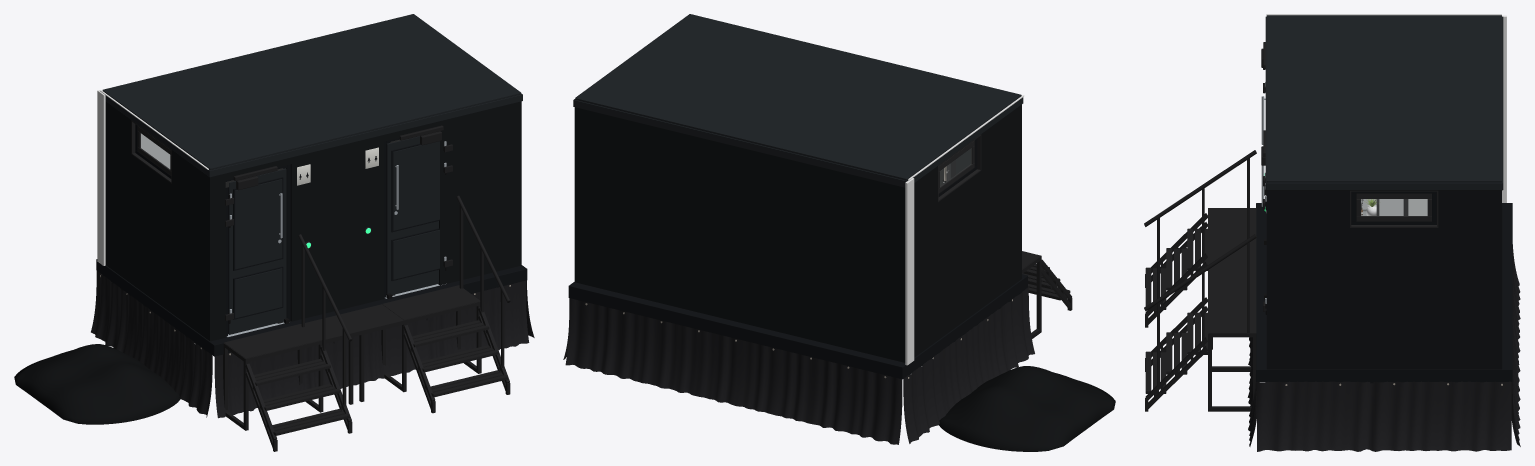
The model's file is SHOWER2_A-feba4975d2b0.glb.
3 views of the same model, side by side, from view 1: azimuth 30°, elevation 25°; view 2: azimuth 150°, elevation 25°; view 3: azimuth 270°, elevation 25° (orthographic). The views are drawn at different scales.
Visible parts, largest first — view 1: RoofNoLED_Slab_1x1m, SHOWER2_Wall_front_03, SHOWER2_Curtain_front, SHOWER2_Wall_front_03_fill, SHOWER2_Drawbar_tarp, SHOWER2_Curtain_end, SHOWER2_Wall_end_L_00, SHOWER2_Wall_end_L_01, SHOWER2_Wall_end_L_03, DoorUnit_L_Inset_panel_001, DoorUnit_R_Inset_panel_001, SHOWER2_Wall_front_00 (+14 smaller); view 2: SHOWER2_Wall_back_00, RoofNoLED_Slab_1x1m, SHOWER2_Curtain_back, SHOWER2_Drawbar_tarp, SHOWER2_Curtain_end, SHOWER2_Wall_end_L_00, SHOWER2_Wall_end_L_01, SHOWER2_Chassis_ledge_back, SHOWER2_Wall_end_L_03, SHOWER2_Cornice_back_A, SHOWER2_Trim_corner_L_A, SHOWER2_Chassis_rim_end_L (+2 smaller); view 3: RoofNoLED_Slab_1x1m, SHOWER2_Curtain_end, SHOWER2_Wall_end_R_00, SHOWER2_Wall_end_R_01, SHOWER2_Wall_end_R_03, SHOWER2_Chassis_rim_end_R, SHOWER2_Cornice_end_R_A, Stair_Landing_Plate.001, SHOWER2_Platform_fill, SHOWER2_Chassis_ledge_back, Stair_Landing_Plate, SHOWER2_Chassis_ledge_front (+14 smaller).
Part boxes in pixels (box(x1,y1,x2,y2)): RoofNoLED_Slab_1x1m: box(102, 14, 521, 169); SHOWER2_Wall_front_03: box(290, 128, 383, 321); SHOWER2_Curtain_front: box(214, 280, 529, 418); SHOWER2_Wall_front_03_fill: box(438, 98, 505, 285); SHOWER2_Drawbar_tarp: box(14, 344, 180, 424); SHOWER2_Curtain_end: box(91, 271, 534, 417); SHOWER2_Wall_end_L_00: box(172, 150, 206, 351); SHOWER2_Wall_end_L_01: box(131, 154, 171, 325); SHOWER2_Wall_end_L_03: box(105, 101, 131, 295); DoorUnit_L_Inset_panel_001: box(235, 179, 282, 269); DoorUnit_R_Inset_panel_001: box(393, 141, 439, 230); SHOWER2_Wall_front_00: box(207, 166, 225, 341); SHOWER2_Wall_back_00: box(574, 99, 910, 375); RoofNoLED_Slab_1x1m: box(575, 14, 1021, 180); SHOWER2_Curtain_back: box(565, 298, 902, 444); SHOWER2_Drawbar_tarp: box(939, 366, 1115, 451); SHOWER2_Curtain_end: box(563, 288, 1034, 443); SHOWER2_Wall_end_L_00: box(981, 107, 1018, 313); SHOWER2_Wall_end_L_01: box(938, 171, 981, 353); SHOWER2_Chassis_ledge_back: box(569, 282, 905, 378); SHOWER2_Wall_end_L_03: box(910, 166, 937, 374); SHOWER2_Cornice_back_A: box(573, 99, 907, 187); SHOWER2_Trim_corner_L_A: box(905, 178, 914, 365); SHOWER2_Chassis_rim_end_L: box(901, 275, 1027, 379); RoofNoLED_Slab_1x1m: box(1266, 15, 1501, 182); SHOWER2_Curtain_end: box(1257, 381, 1511, 451); SHOWER2_Wall_end_R_00: box(1273, 190, 1349, 382); SHOWER2_Wall_end_R_01: box(1350, 228, 1438, 383); SHOWER2_Wall_end_R_03: box(1438, 190, 1494, 382); SHOWER2_Chassis_rim_end_R: box(1256, 369, 1512, 381); SHOWER2_Cornice_end_R_A: box(1266, 182, 1501, 190); Stair_Landing_Plate.001: box(1208, 292, 1256, 333); SHOWER2_Platform_fill: box(1208, 249, 1256, 291); SHOWER2_Chassis_ledge_back: box(1502, 203, 1512, 369); Stair_Landing_Plate: box(1208, 208, 1256, 248); SHOWER2_Chassis_ledge_front: box(1256, 203, 1266, 369).
Bounding box in the file's own units: 5.61 × 3 × 3.85.
84 materials, 12 textured.
